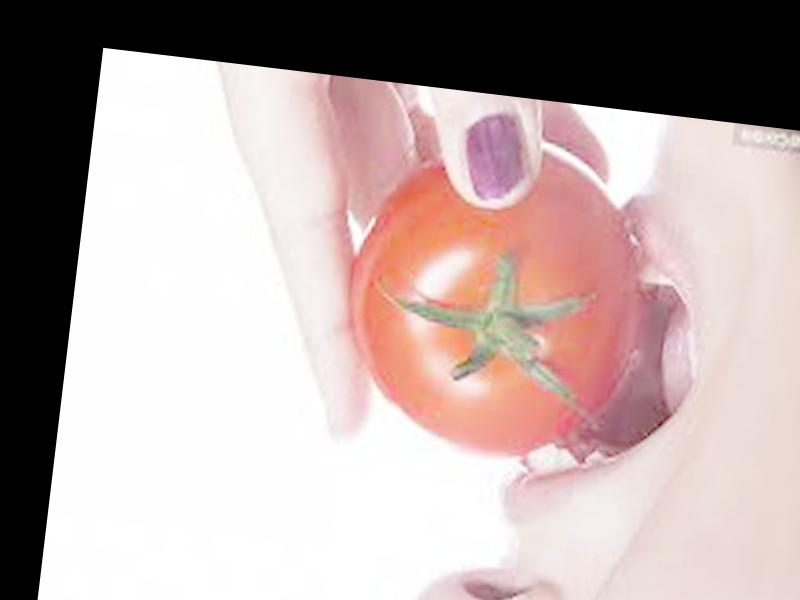Tomato: (330, 121, 656, 471)
